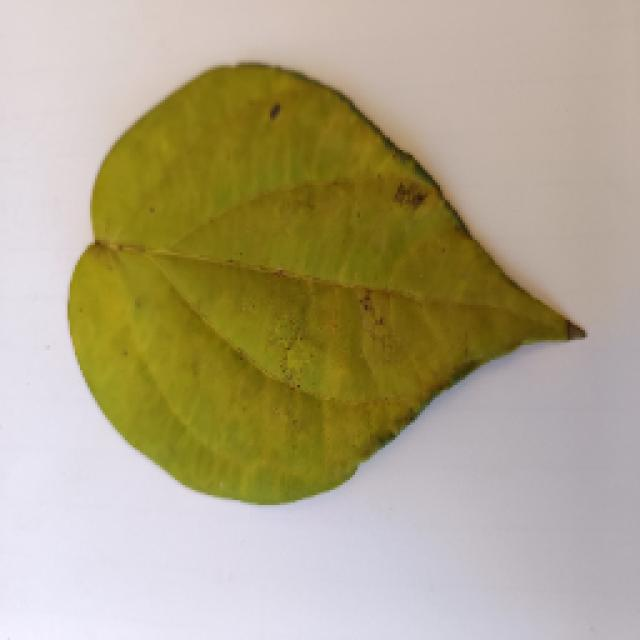slow-decline: (40, 60, 602, 525)
